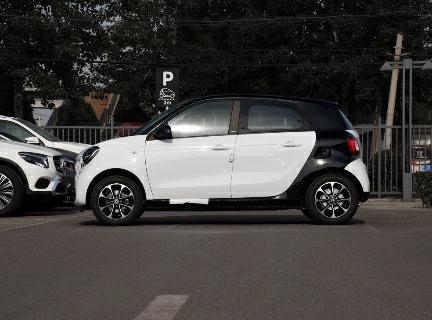smart-forfour: (70, 90, 374, 227)
